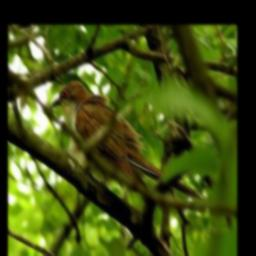Cuckoo: (49, 78, 205, 203)
